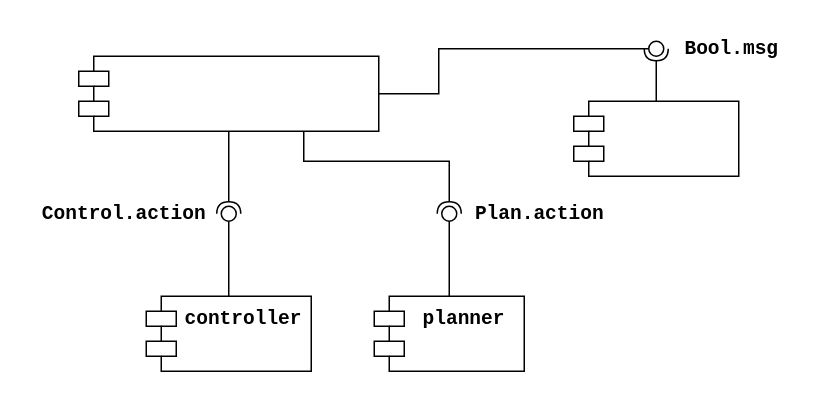
The diagram is 824 pixels wide and 398 high, and some of its shapes have lost their labels. The shapes that lost their labels are listed below. From the top down, each one's centre as x and y in pixels, then its label:
(x=228, y=93): Finite State Machine
(x=655, y=138): battery
